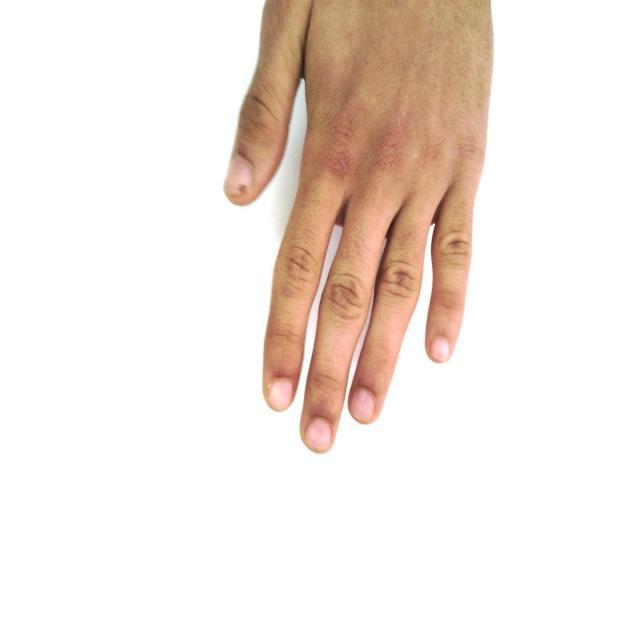Fingernail: (225, 158, 252, 195), (306, 419, 331, 451), (352, 389, 374, 421), (269, 380, 293, 409), (432, 339, 449, 361)
